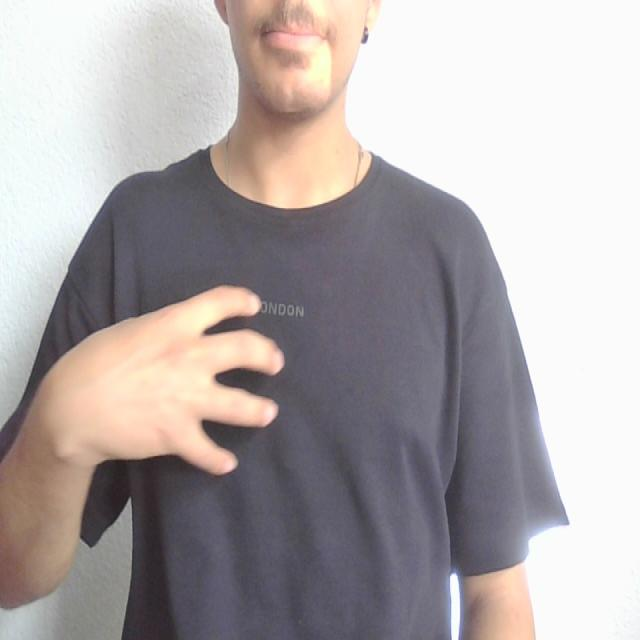Anne: (72, 279, 470, 497)
